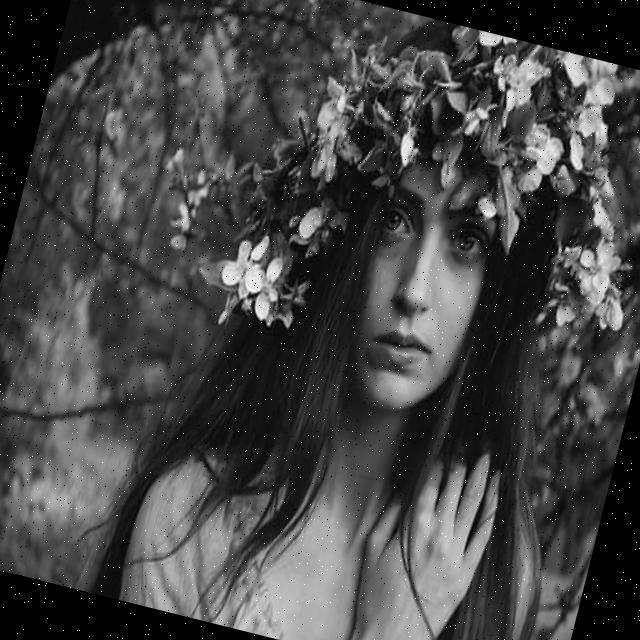Sadness: (337, 154, 510, 422)
